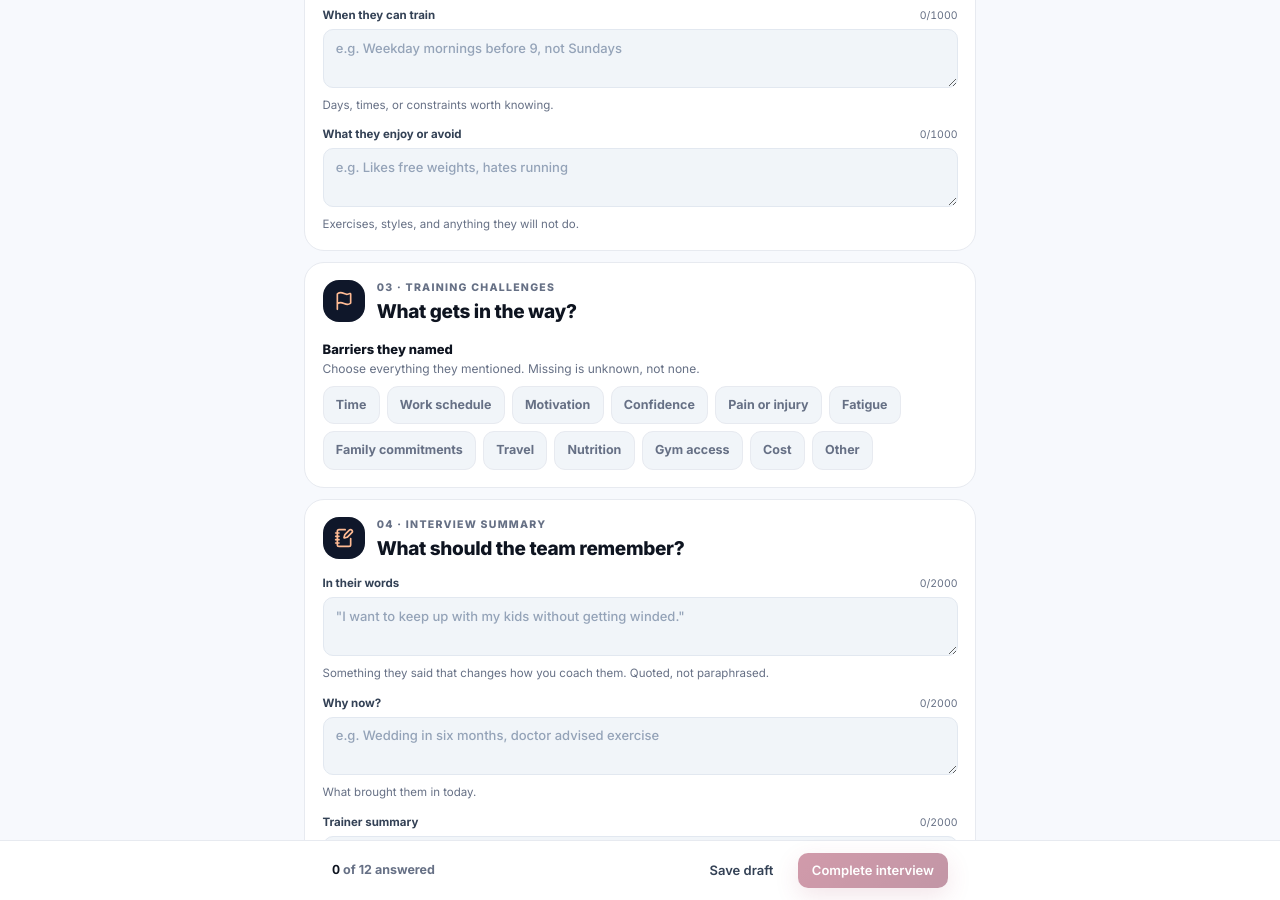
it: <InterviewPage /> › reveals the "what else" box only after the Other barrier is chosen
(page scrolled)
Expected: the field labelled "What else gets in the way?" is not shown
Click the button "Other" at (842, 450), box top-left (812, 431), bottom-right (873, 470)
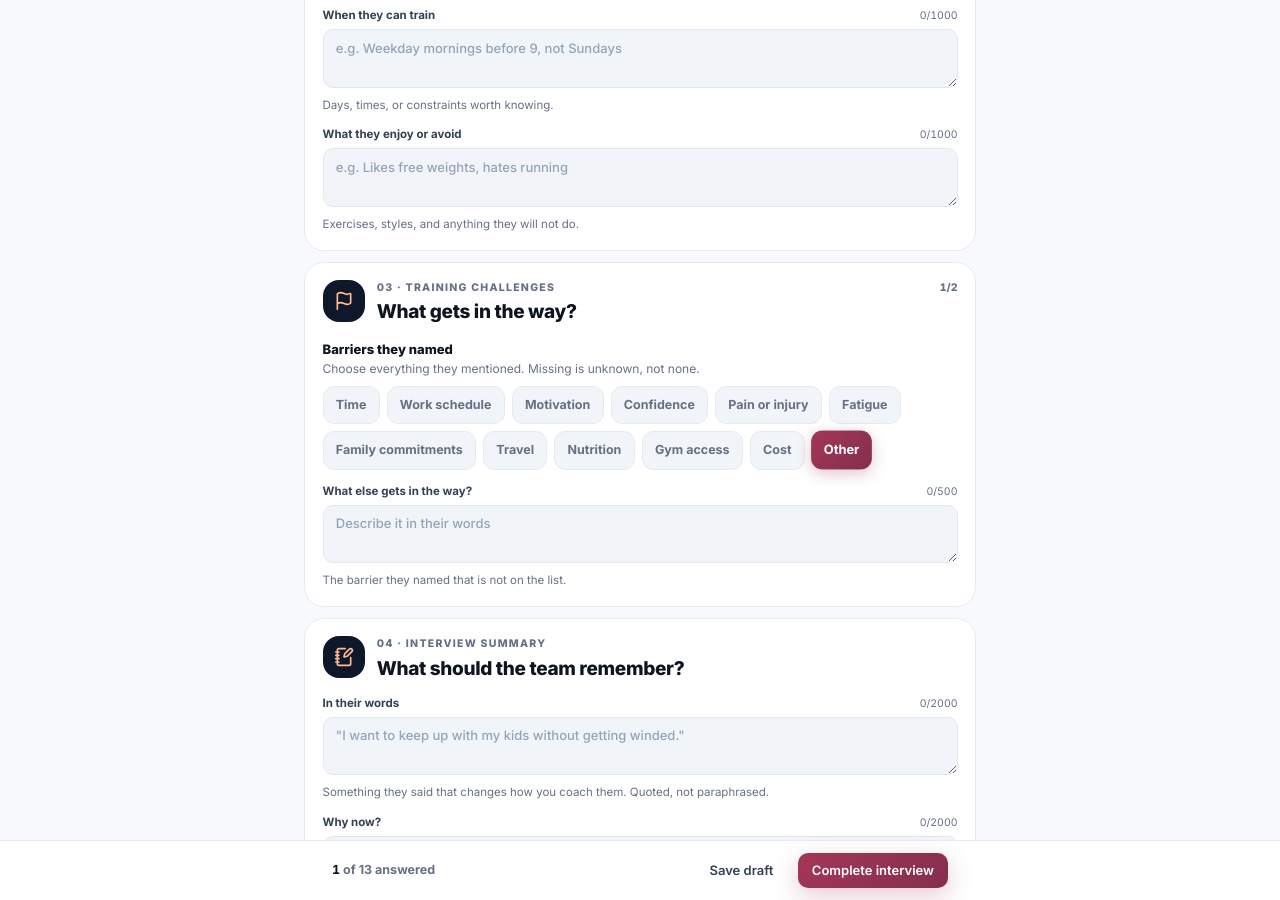
Now the text box labelled "What else gets in the way?" is shown, box top-left (322, 505), bottom-right (958, 563)
